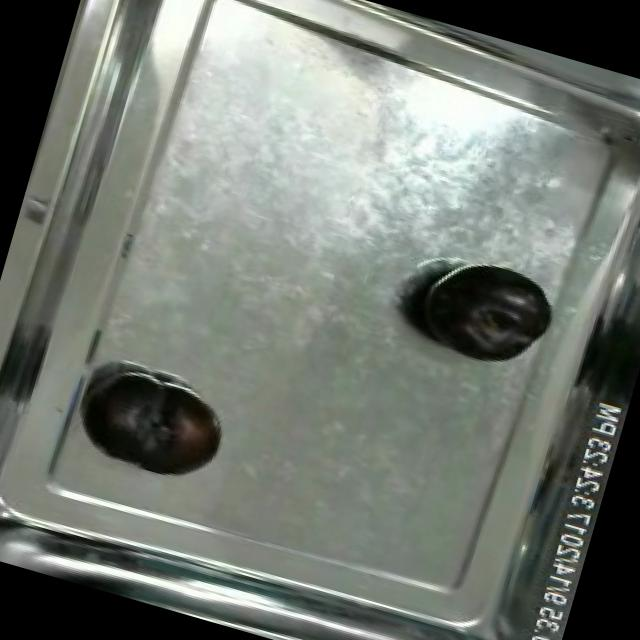Fruit: (399, 242, 566, 382), (75, 360, 238, 492)
